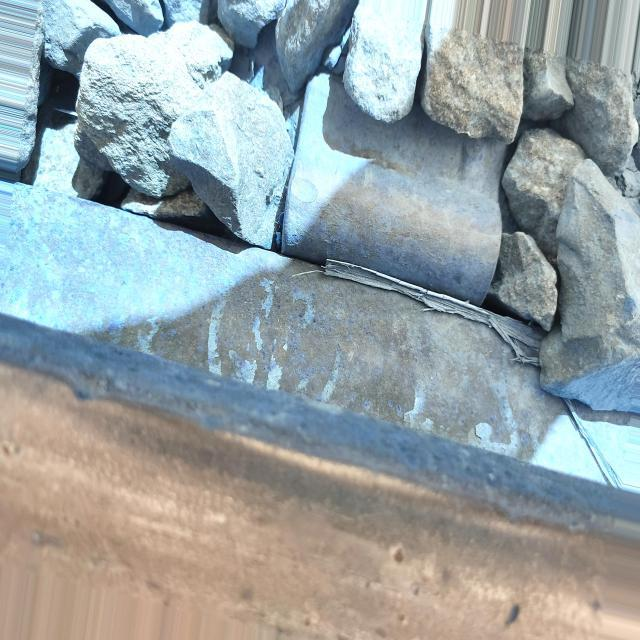Missing Fastener: (250, 70, 522, 318)
